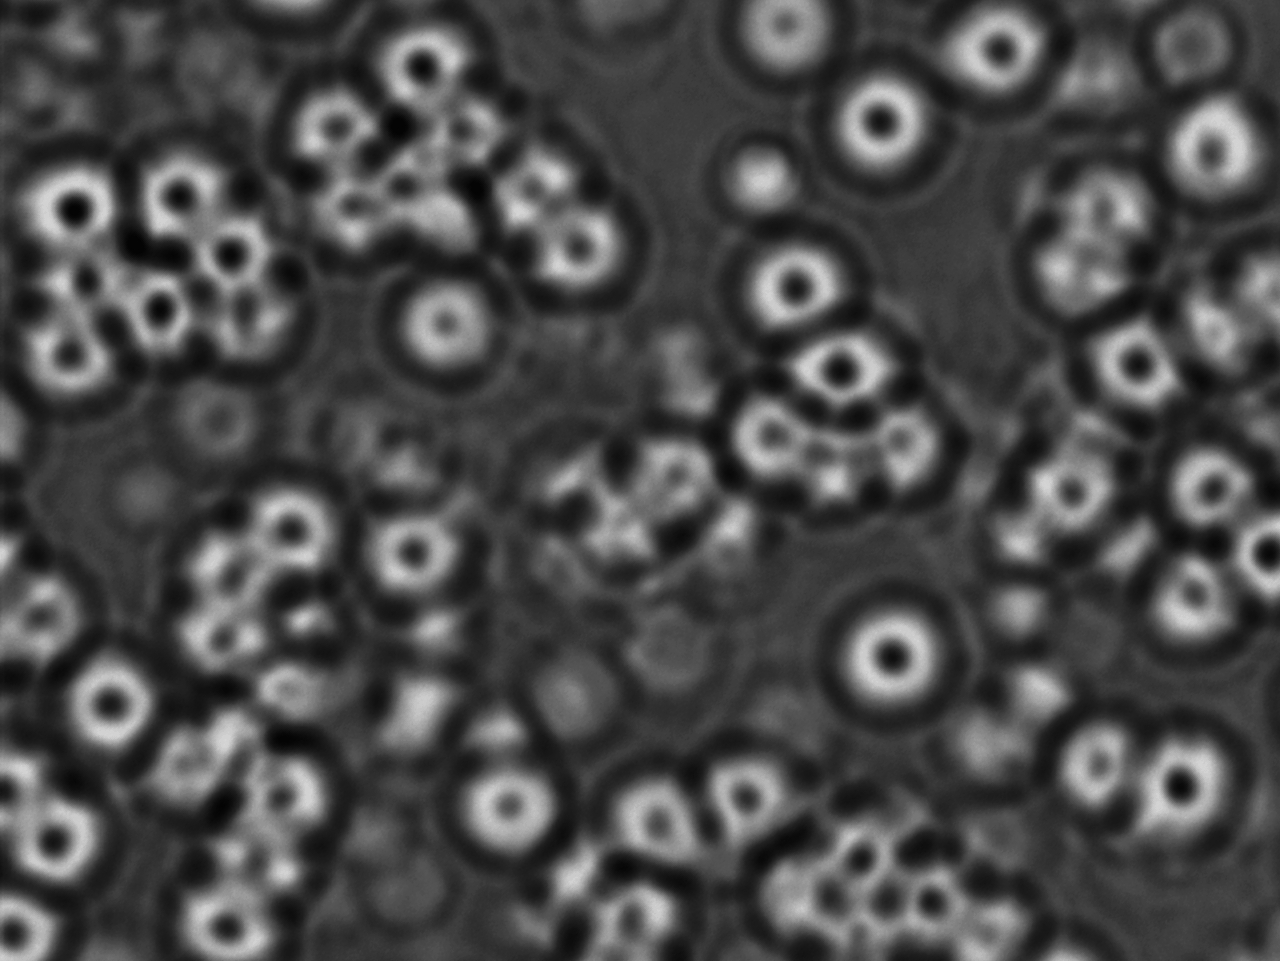depth:32: (1063, 283, 1203, 430), (818, 578, 959, 721), (509, 171, 647, 313), (1121, 712, 1252, 856), (371, 256, 511, 388), (813, 67, 941, 199), (776, 301, 901, 432), (348, 501, 470, 635), (1137, 424, 1259, 554), (16, 143, 141, 270), (233, 470, 359, 595), (735, 225, 857, 351), (1148, 90, 1277, 208), (1128, 536, 1250, 656), (455, 749, 572, 873), (370, 9, 489, 125), (51, 649, 171, 756), (122, 141, 232, 251), (114, 260, 217, 365), (183, 202, 286, 299)
